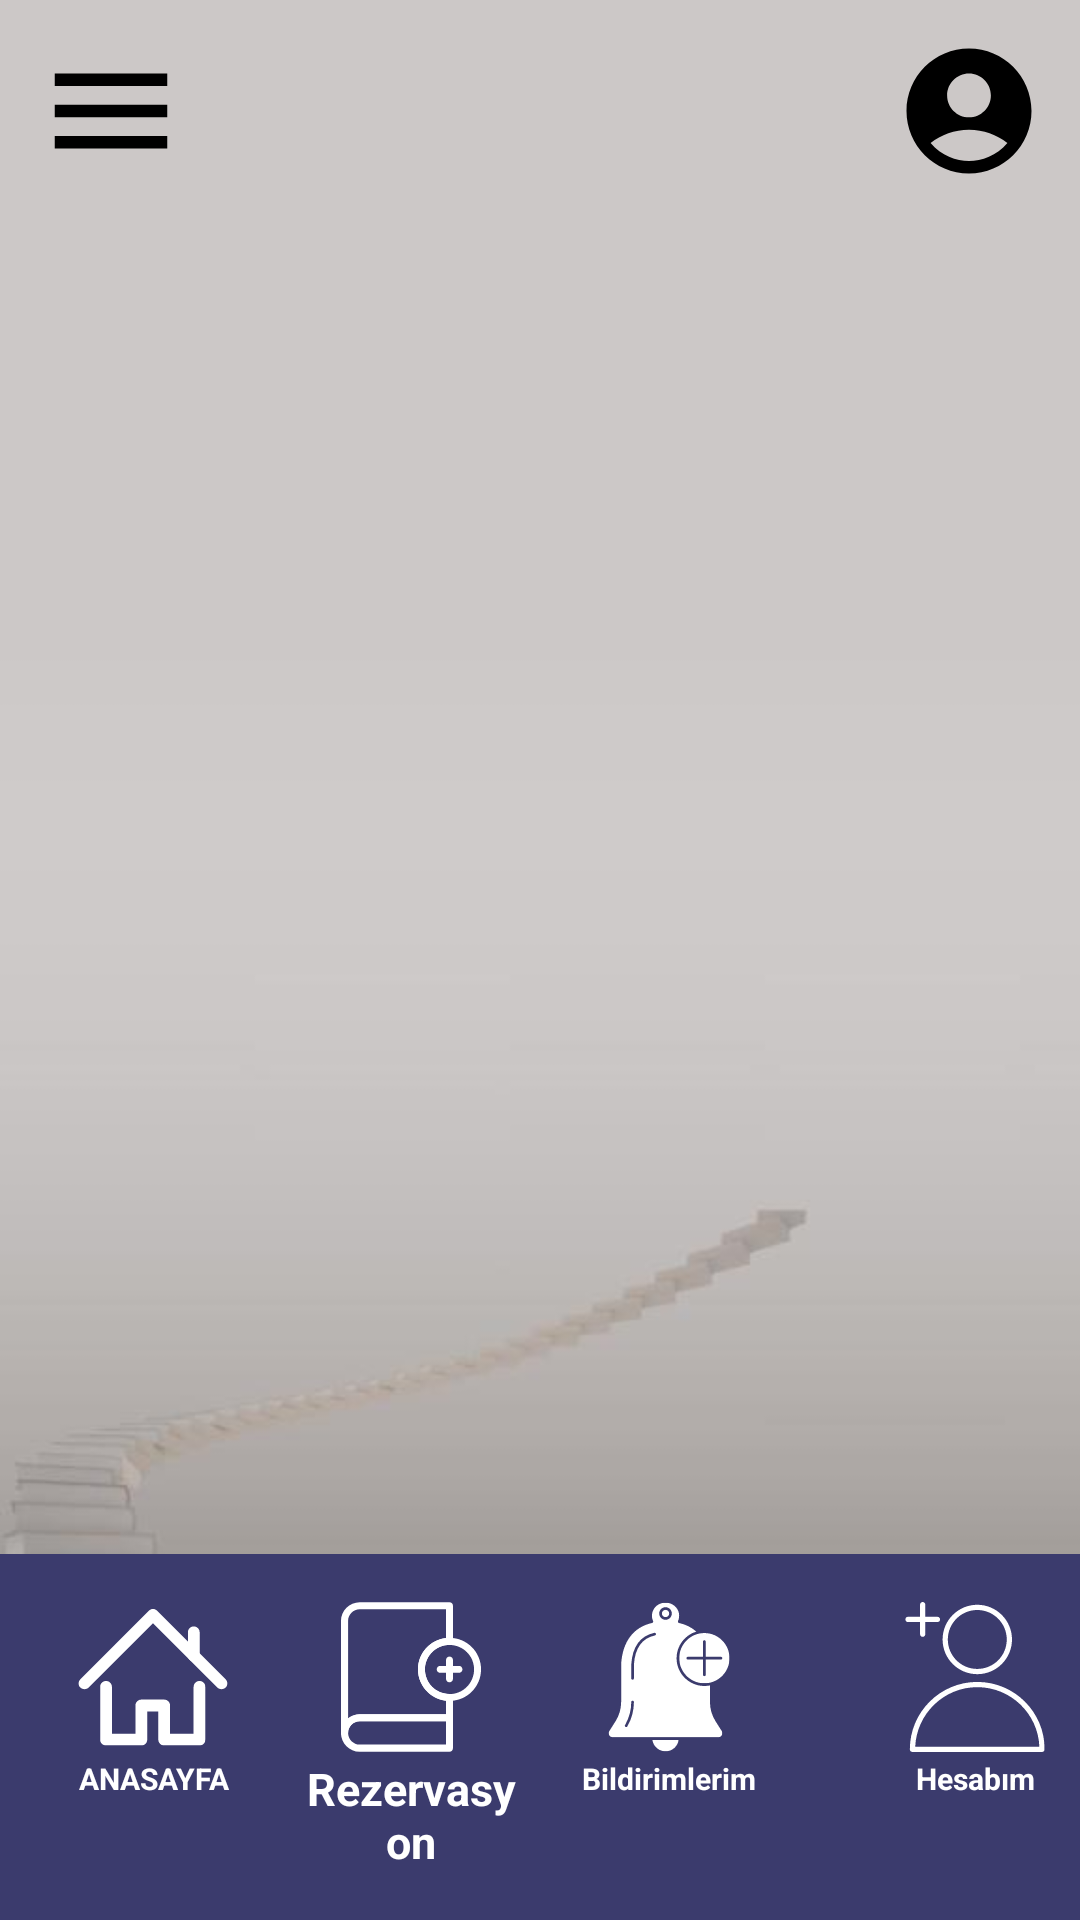

Named icons in this screenshot (1080w x 1920h) and their bounding boxes, region(x1, y1, x2, y2):
account circle: region(906, 48, 1032, 174)
add user: region(905, 1602, 1045, 1752)
book add: region(341, 1602, 481, 1752)
menu: region(54, 73, 168, 149)
